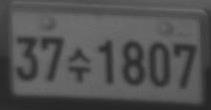0: (149, 42, 170, 86)
1: (95, 39, 119, 83)
3: (15, 36, 38, 81)
7: (172, 43, 197, 88), (41, 36, 64, 81)
8: (121, 40, 146, 85)
수: (67, 47, 91, 83)
